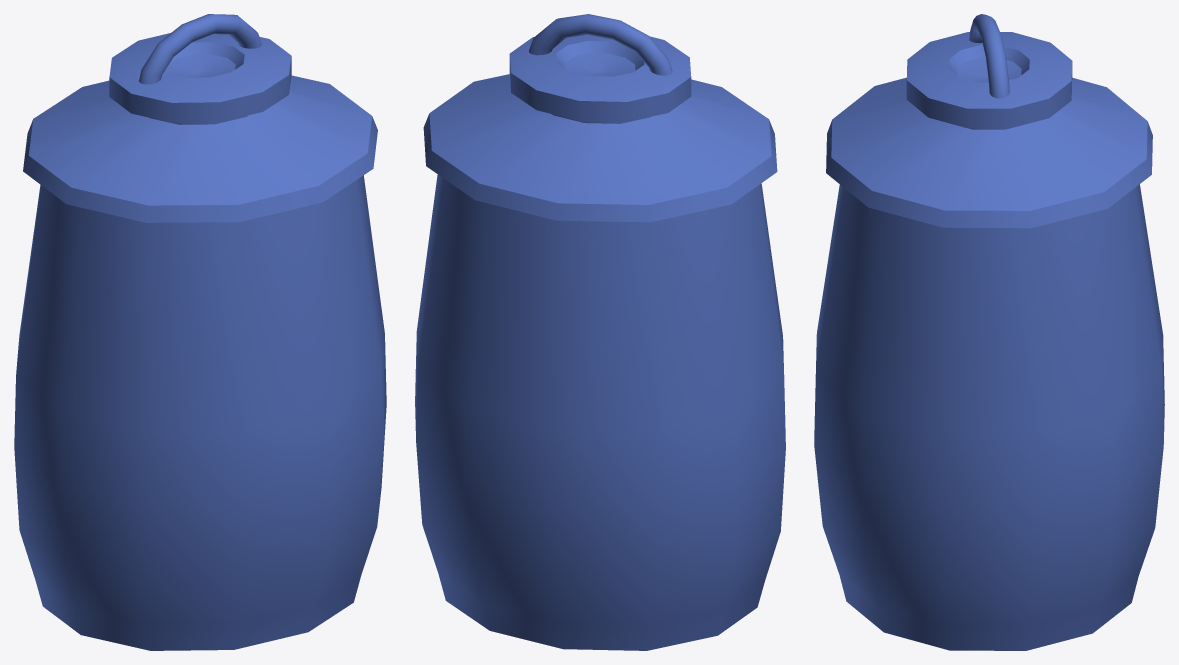
The model's file is WaterTank-big.fbx.
3 renders of one model, left to right at view 1: azimuth 30°, elevation 25°; view 2: azimuth 150°, elevation 25°; view 3: azimuth 270°, elevation 25°, orthographic.
Visible parts, largest first — view 1: WaterTank-big; view 2: WaterTank-big; view 3: WaterTank-big.
Part boxes in pixels (left/top/right/bottom): WaterTank-big: left=14, top=14, right=386, bottom=650; WaterTank-big: left=415, top=14, right=785, bottom=650; WaterTank-big: left=814, top=14, right=1164, bottom=650.
Size of the model in its own units: 0.7268 by 1.22 by 0.6889.
